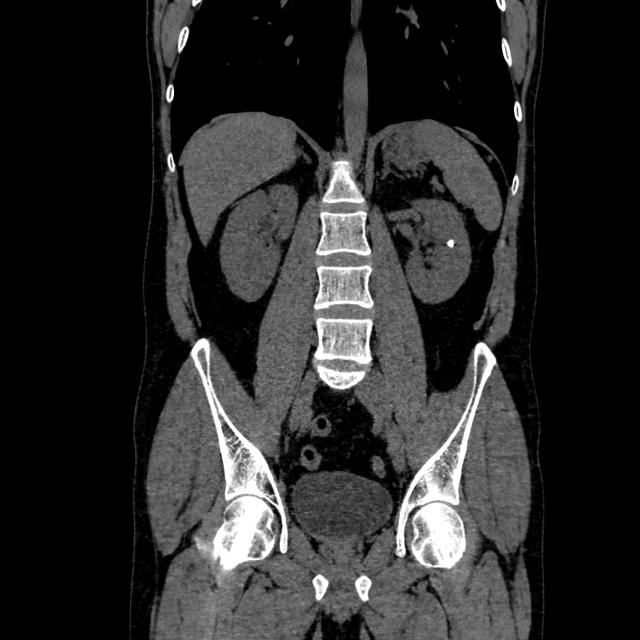kidneystone: (446, 239, 455, 249), (448, 238, 454, 249)
